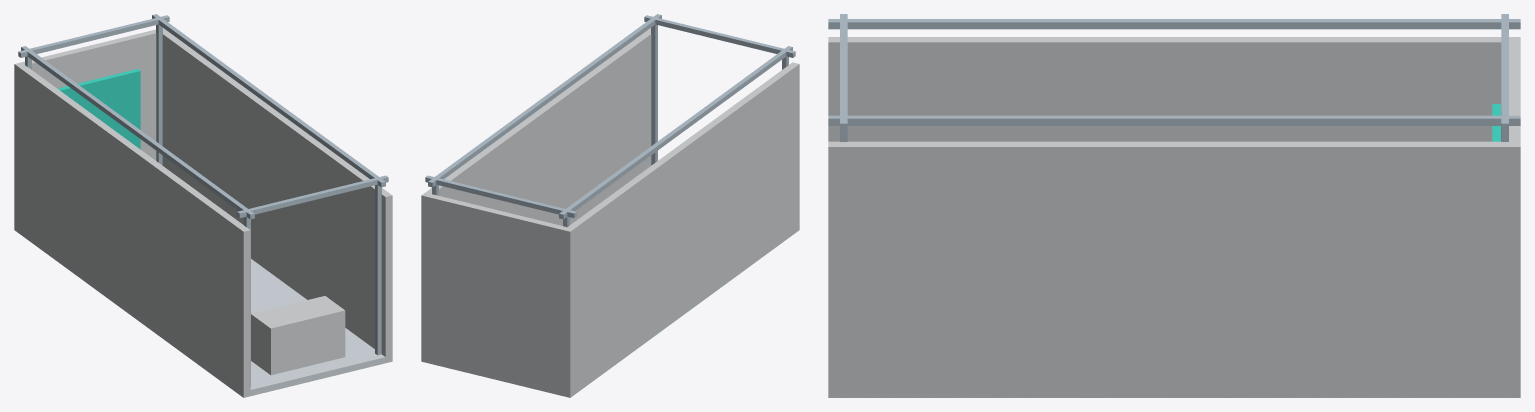
3 renders of one model, left to right at view 1: azimuth 30°, elevation 25°; view 2: azimuth 150°, elevation 25°; view 3: azimuth 270°, elevation 25°, orthographic. The views are drawn at different scales.
Parts seen in each view (by area): view 1: Exhibition Booth Concept; view 2: Exhibition Booth Concept; view 3: Exhibition Booth Concept.
Part boxes in pixels (box(x1,y1,x2,y2)): Exhibition Booth Concept: box(14, 14, 392, 397); Exhibition Booth Concept: box(421, 14, 799, 397); Exhibition Booth Concept: box(828, 14, 1520, 397).
Bounding box in the file's own units: 3 × 3.49 × 8.
